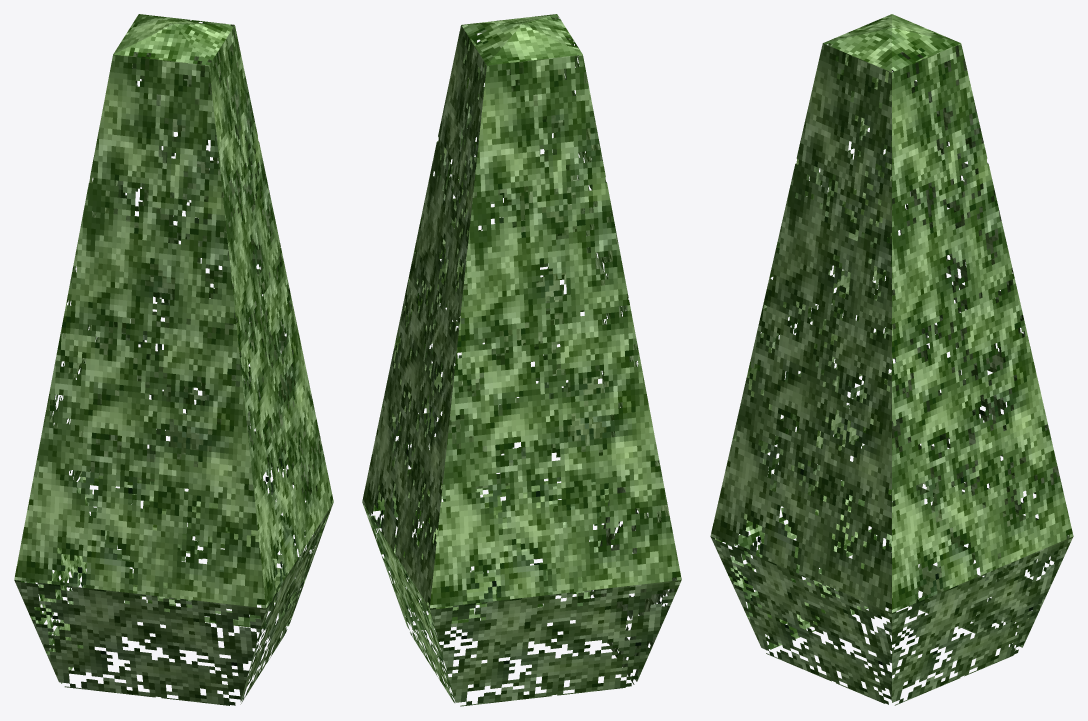
File: bush_end_tall_summer.glb
3 views of the same model, side by side, from view 1: azimuth 30°, elevation 25°; view 2: azimuth 150°, elevation 25°; view 3: azimuth 270°, elevation 25° (orthographic).
Visible parts, largest first — view 1: bush_end_tall_summer; view 2: bush_end_tall_summer; view 3: bush_end_tall_summer.
Boxes of the visible parts, box(x1,y1,x2,y2) form: bush_end_tall_summer: box(14, 14, 333, 705); bush_end_tall_summer: box(362, 14, 681, 706); bush_end_tall_summer: box(710, 14, 1073, 705).
Size of the model in its own units: 1.39 by 2.63 by 1.39.
1 material, 1 textured.
